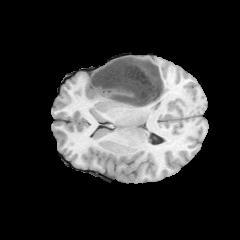glioma: (89, 56, 169, 109)
